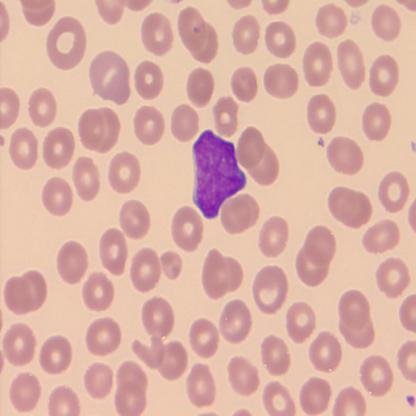Blast: (188, 127, 247, 222)
